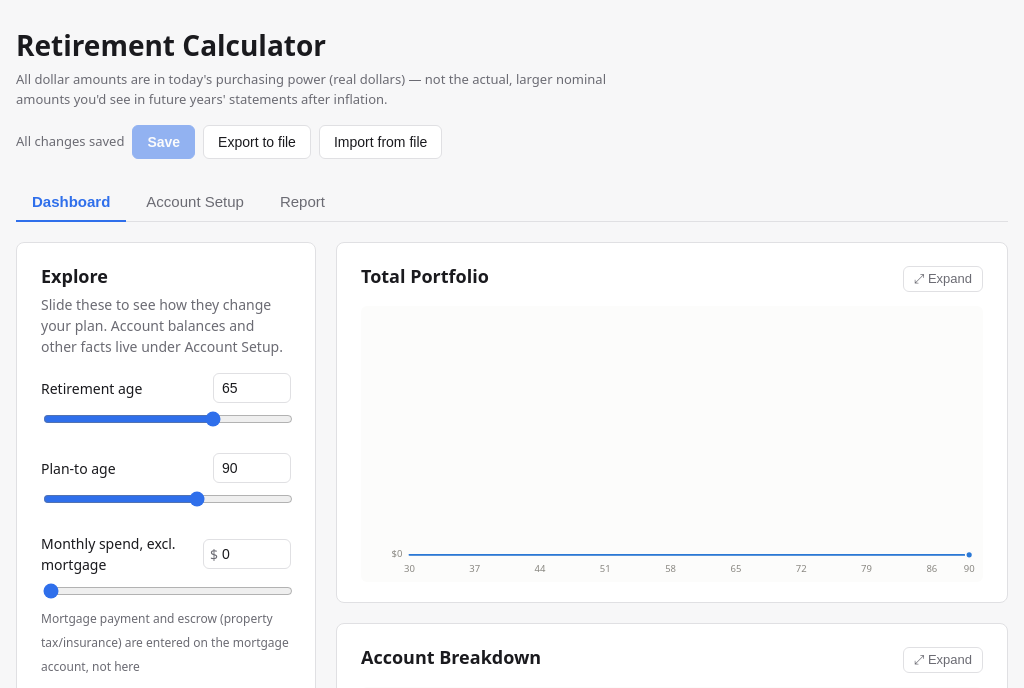
Test case: App › switches to the Report tab, showing the printable layout with no Explore panel
The width and height of the screenshot is (1024, 688).
Check: the heading "Retirement Calculator" is shown, box [16,26,326,64]
What coordinates should you click on to do the following:
click the tab "Report"
I would click on:
 (302, 202)
Its box is [264,183,341,222].
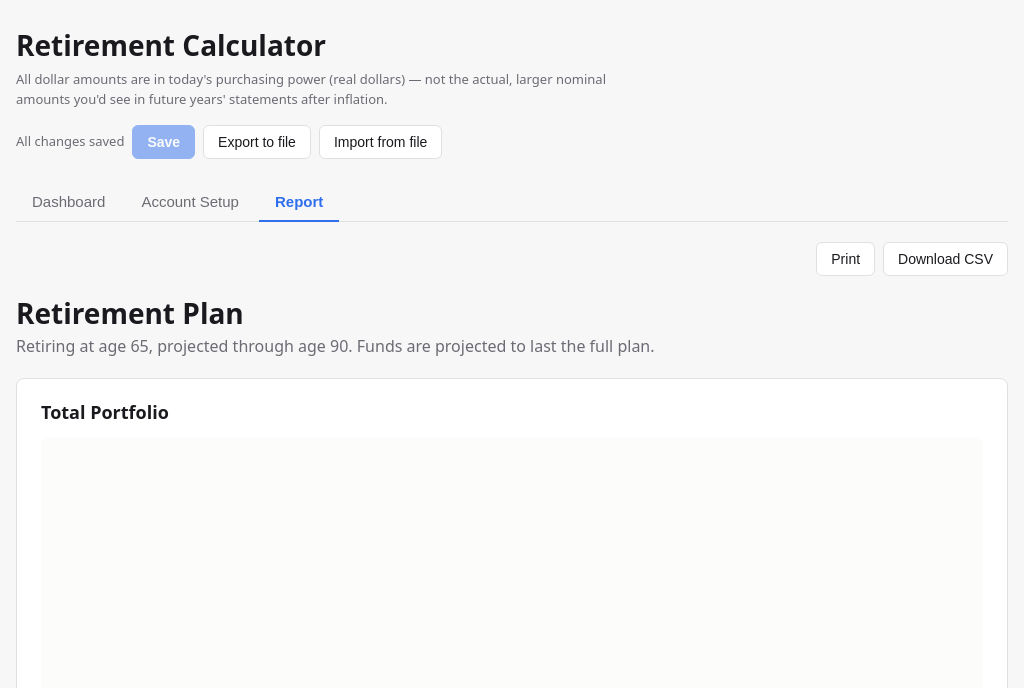
Check: the heading "Retirement Plan" is shown, box [16,294,244,332]
Check: the heading "Explore" is gone
Check: the button "Print" is shown, box [816,242,875,276]
